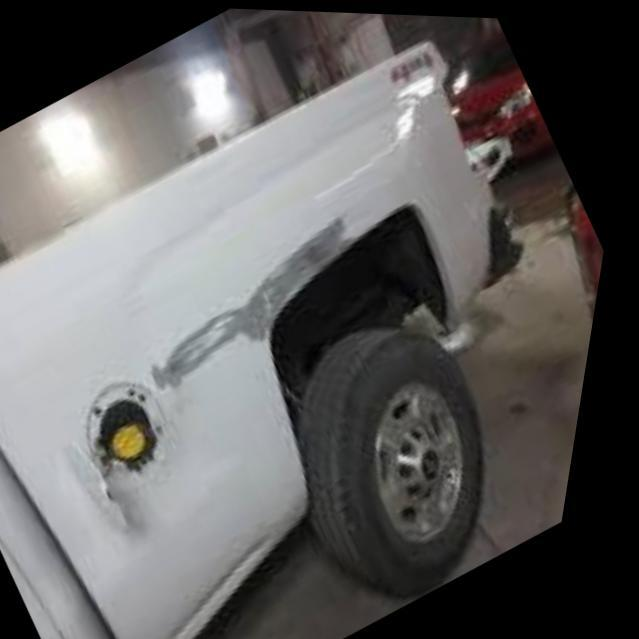rub: (157, 195, 369, 388)
